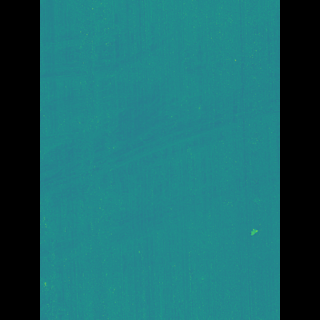Loch: (70, 0, 245, 214)
